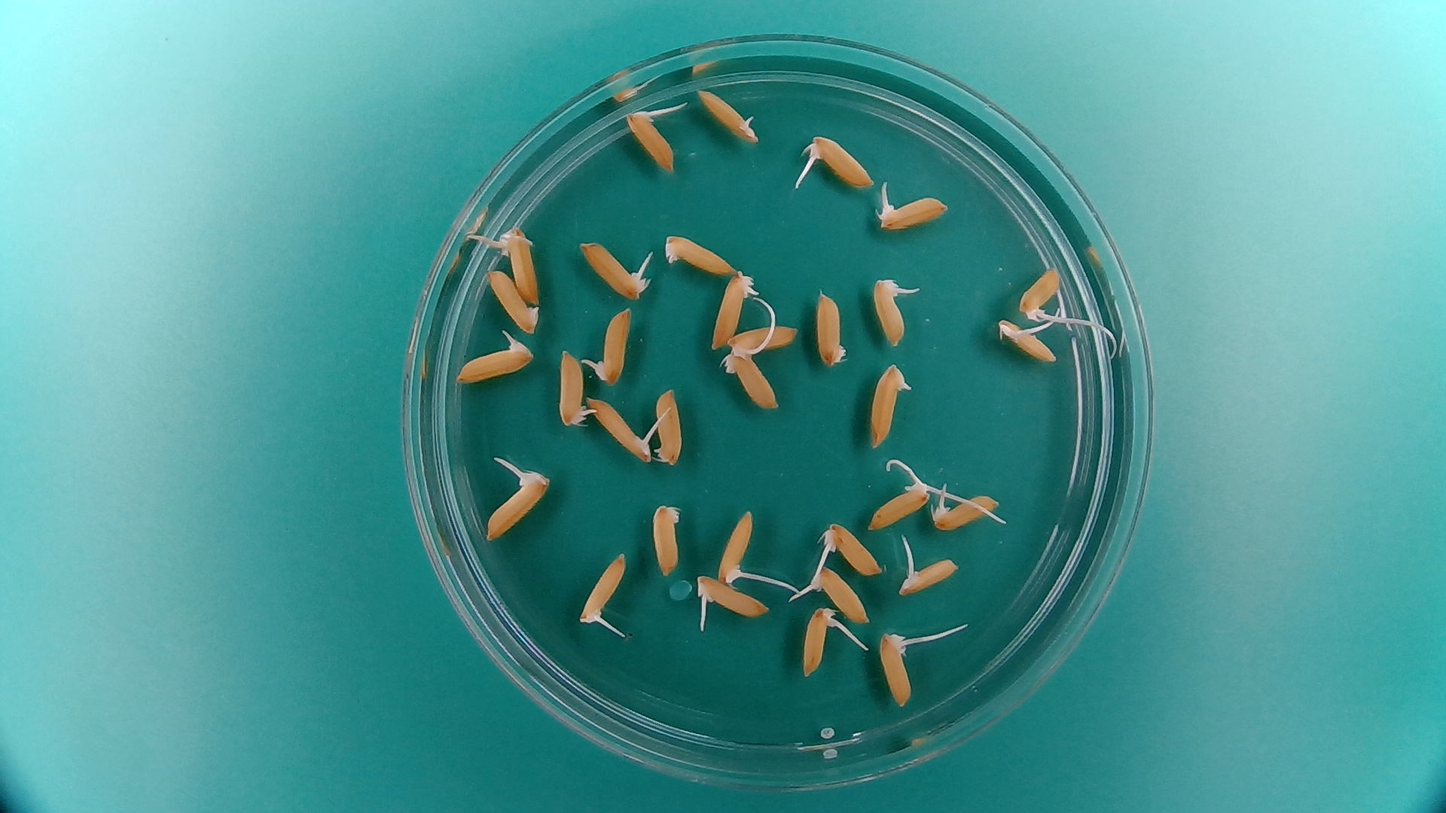no: (483, 265, 543, 334), (660, 228, 737, 276), (721, 352, 782, 411), (812, 285, 850, 370), (651, 383, 685, 470), (649, 499, 685, 579)
yes: (479, 470, 552, 545), (576, 236, 655, 303), (587, 394, 656, 464), (706, 267, 758, 352), (866, 358, 914, 450), (622, 102, 679, 175), (578, 547, 630, 626), (693, 85, 761, 145), (453, 339, 537, 387), (870, 272, 920, 349), (807, 565, 871, 624), (499, 220, 544, 303), (806, 136, 875, 190), (694, 577, 770, 623), (865, 477, 929, 531), (593, 303, 634, 387), (715, 505, 758, 584), (822, 524, 885, 577), (725, 317, 801, 359), (994, 316, 1059, 365), (929, 489, 999, 532), (556, 348, 592, 429), (1017, 263, 1066, 322), (896, 552, 961, 595), (878, 197, 953, 233), (880, 634, 913, 707), (801, 608, 834, 674)
